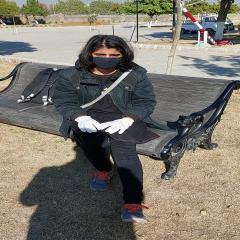gloved: (101, 118, 133, 134), (76, 116, 101, 132)
